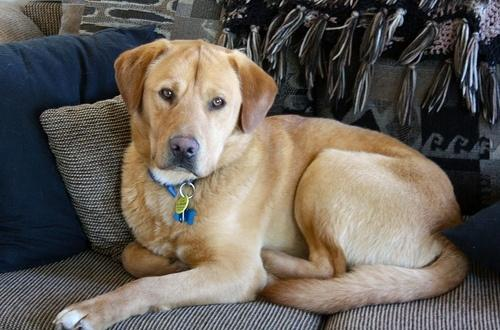dog: (55, 39, 467, 328)
